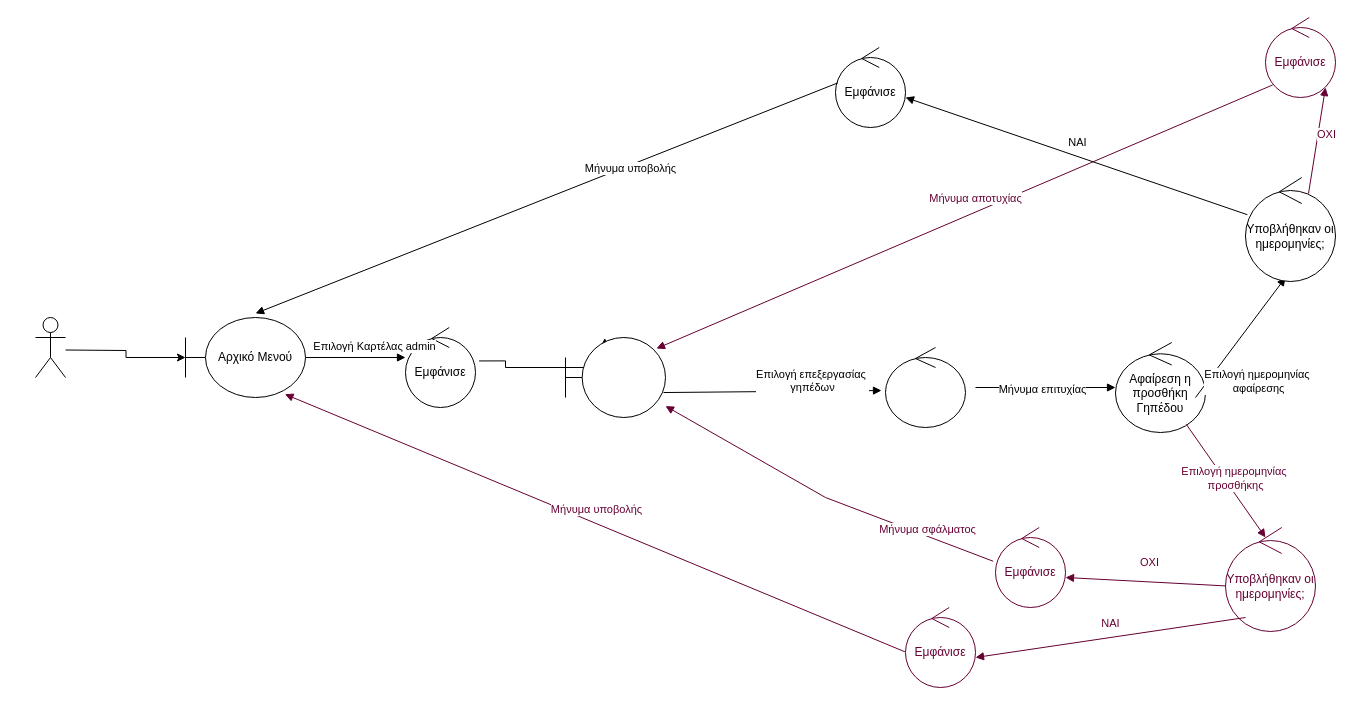
Some shapes in this 1354 by 705 pixel diagram are drawn without their labels. The centre of each missing label's shape, as x and y in pixels:
"Διαχειριστής" belongs at (x=50, y=347).
"Επεξεργασία αιτήματος" belongs at (x=925, y=387).
"Οθόνη Διαχειριστή" belongs at (x=615, y=377).
